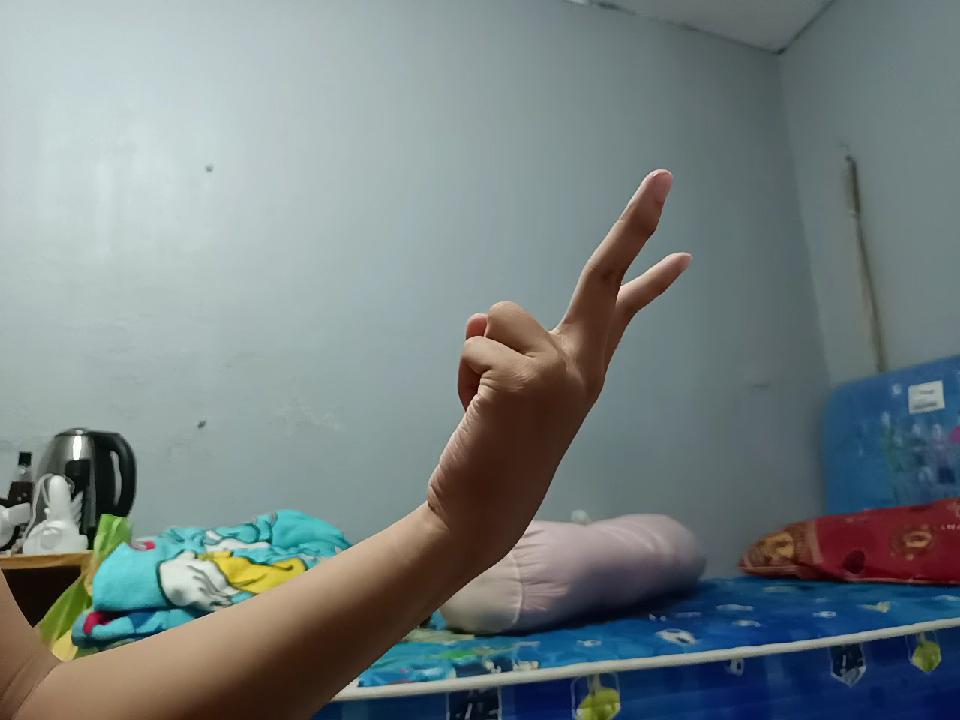scissors: (436, 126, 706, 482)
